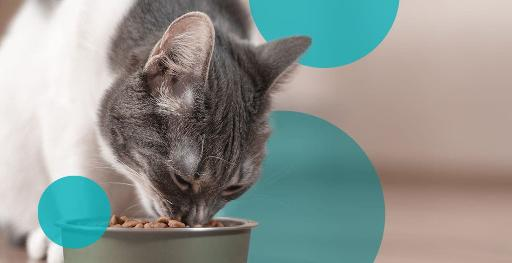cat_eating: (0, 0, 312, 263)
